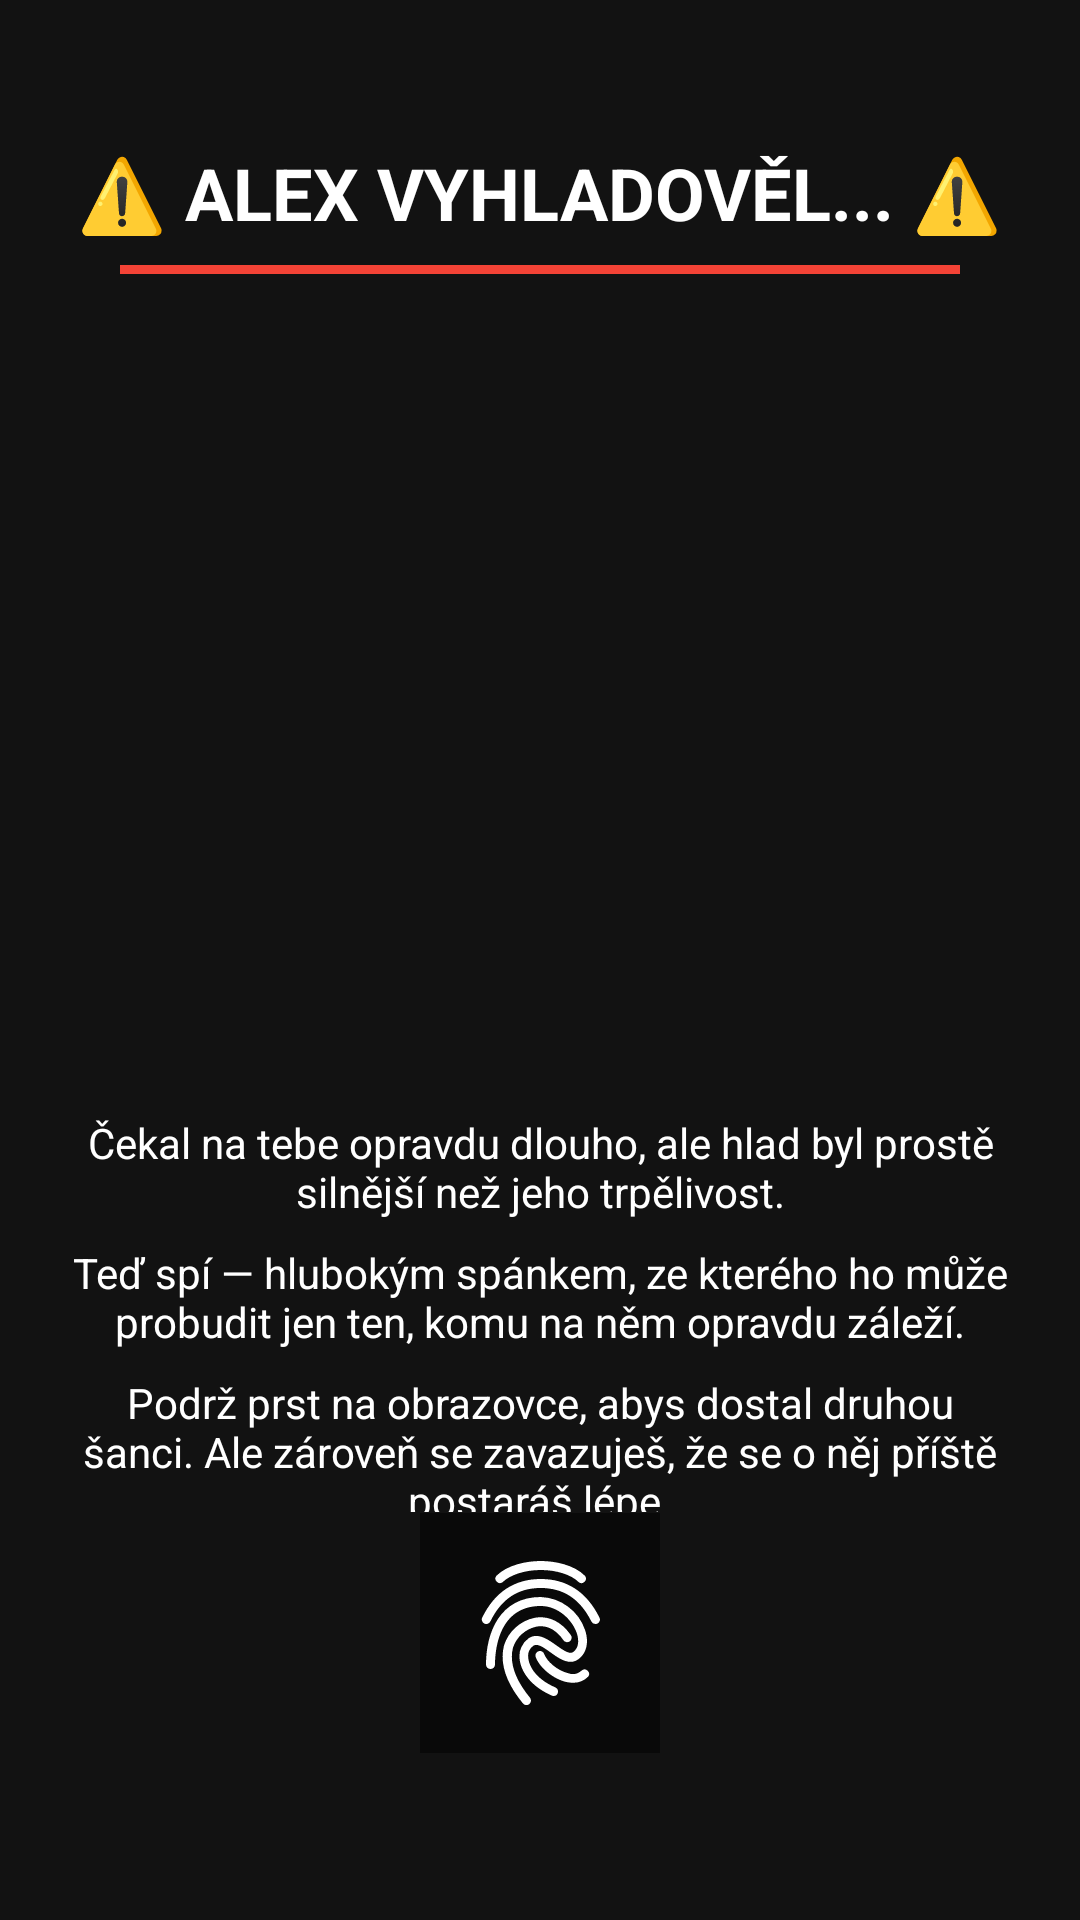

Icons on this 1080 × 1920 Android screen, each with its box as (x1, y1, x2, y2):
Hold to revive: (420, 1513, 660, 1753)
